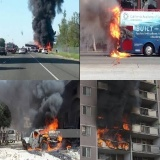fire: (108, 7, 131, 57), (27, 118, 62, 150), (98, 115, 129, 149), (36, 41, 50, 51), (65, 144, 72, 150)
